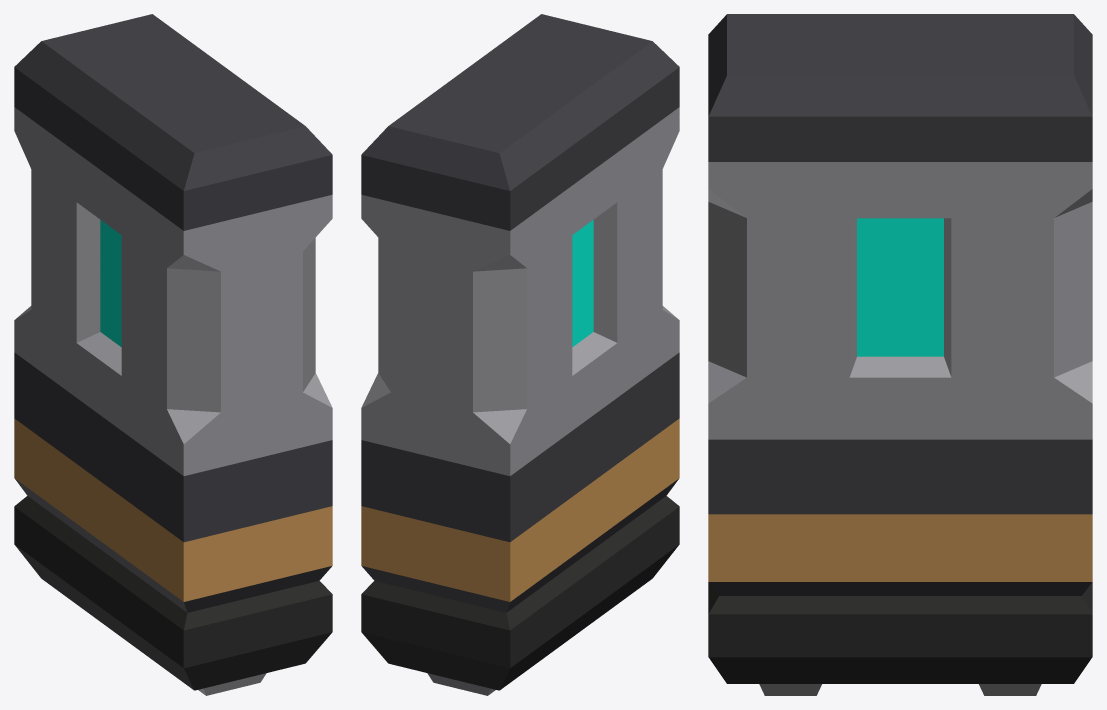
Rendered from city_SM_Wep_Ammo_Battery_01.gltf.
3 views of the same model, side by side, from view 1: azimuth 30°, elevation 25°; view 2: azimuth 150°, elevation 25°; view 3: azimuth 270°, elevation 25° (orthographic). The views are drawn at different scales.
Parts seen in each view (by area): view 1: SM_Wep_Ammo_Battery_01; view 2: SM_Wep_Ammo_Battery_01; view 3: SM_Wep_Ammo_Battery_01.
Boxes of the visible parts, x1,y1,x2,y2 form: SM_Wep_Ammo_Battery_01: [14, 14, 332, 695]; SM_Wep_Ammo_Battery_01: [361, 14, 679, 695]; SM_Wep_Ammo_Battery_01: [708, 14, 1092, 695].
Size of the model in its own units: 0.0218 by 0.0788 by 0.0431.
1 material, 1 textured.
